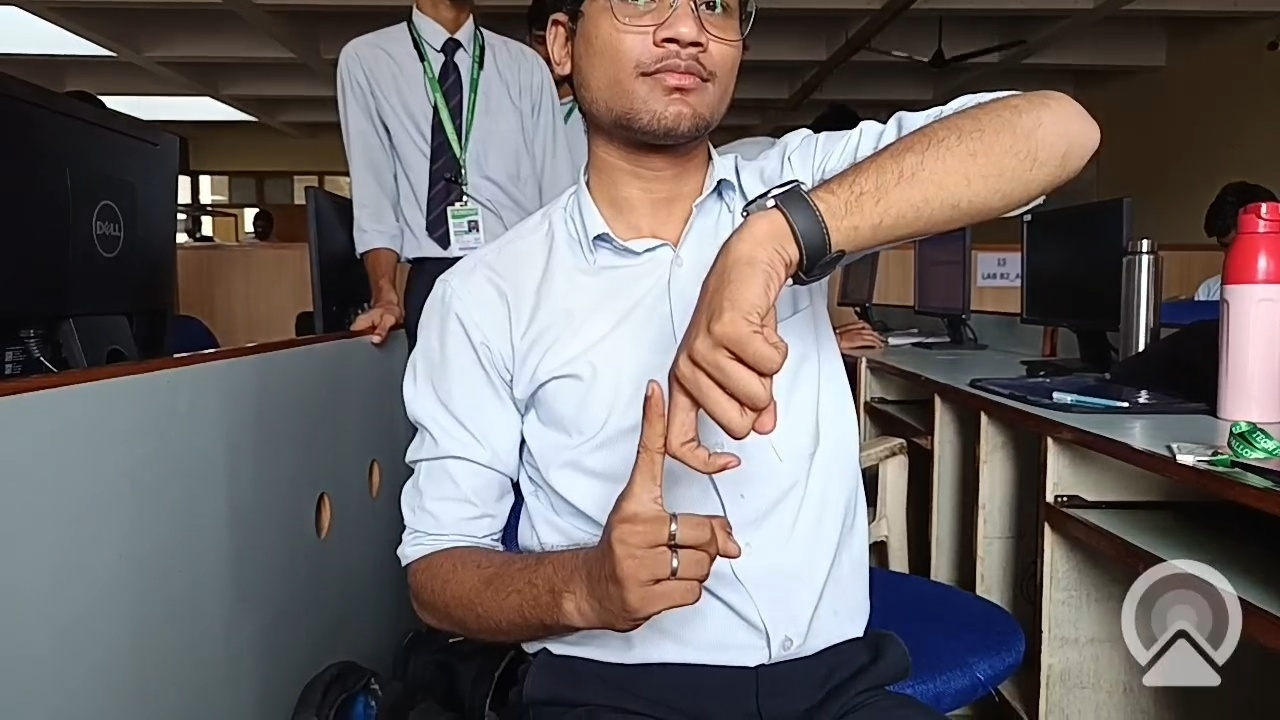K: (553, 218, 832, 667)
